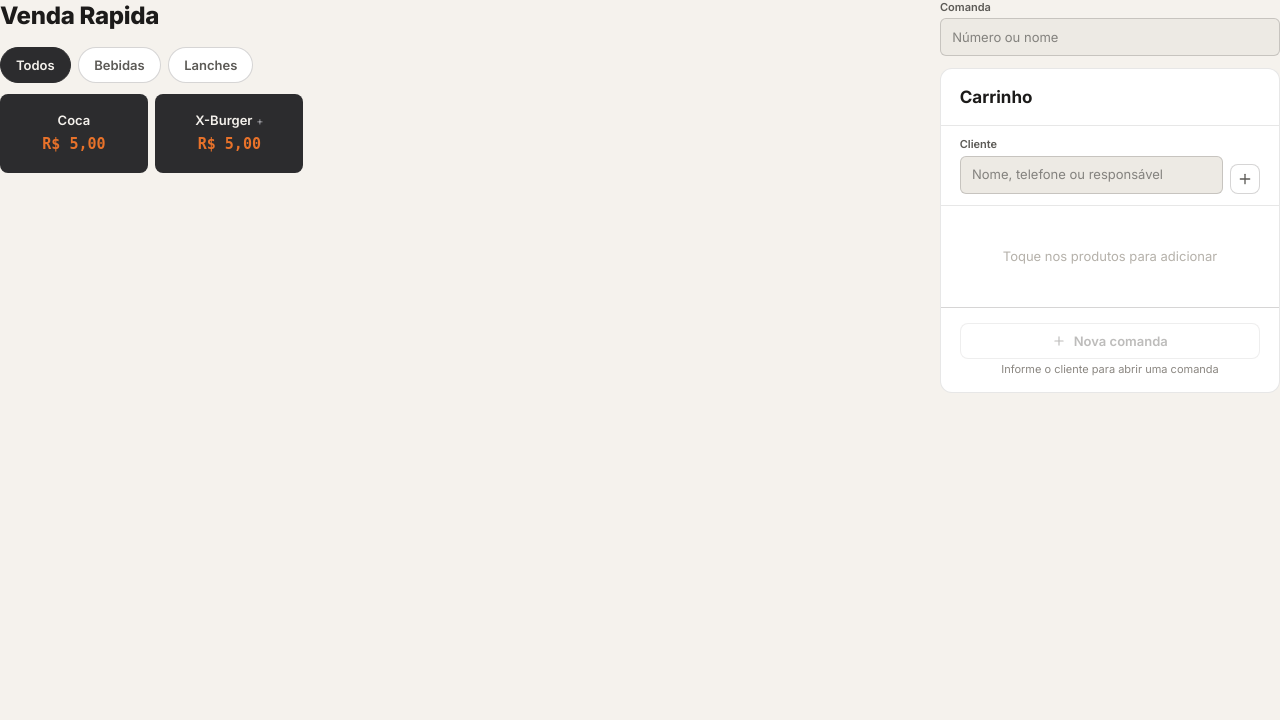
it: PdvPage › propõe a comanda aberta do cliente recém-cadastrado
Expected: the text "Coca" is shown, [58,111,90,129]
Click the button named "Cadastrar cliente".
click(1245, 179)  # box [1230,164,1260,194]
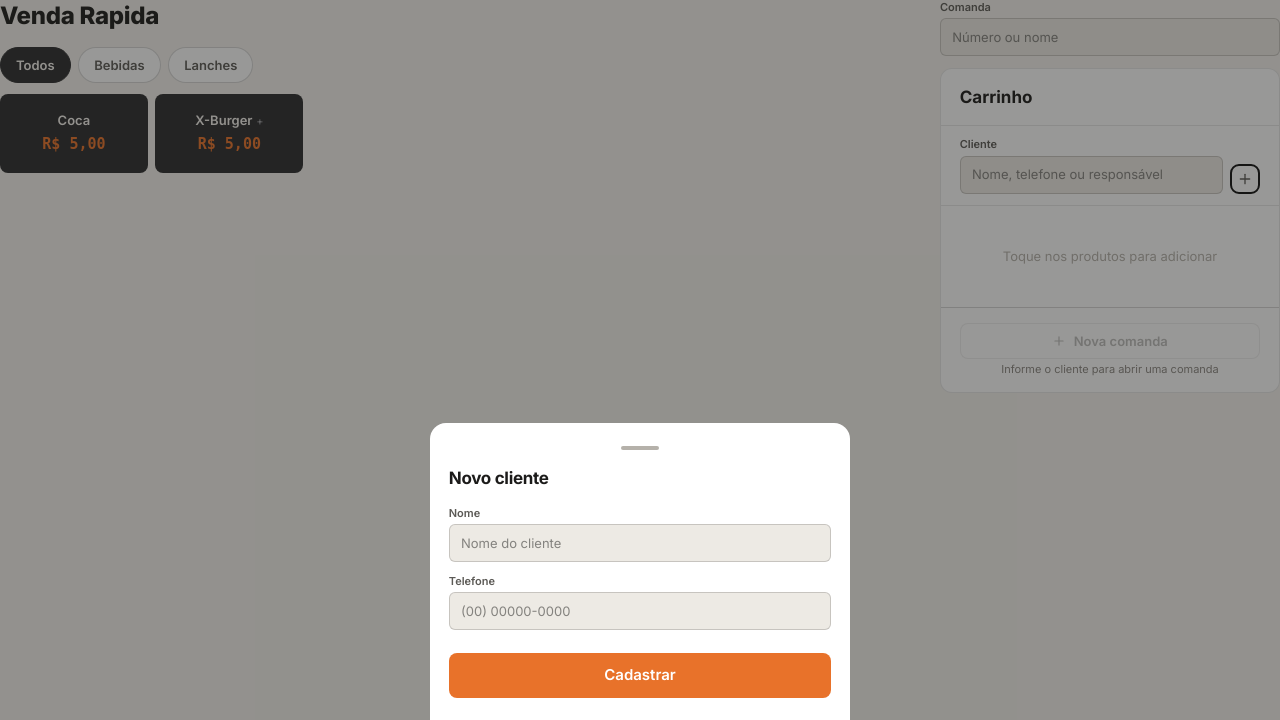
Type "Maju" into the field labelled "Nome".
click(640, 543); type("Maju")  # box [449,524,831,562]
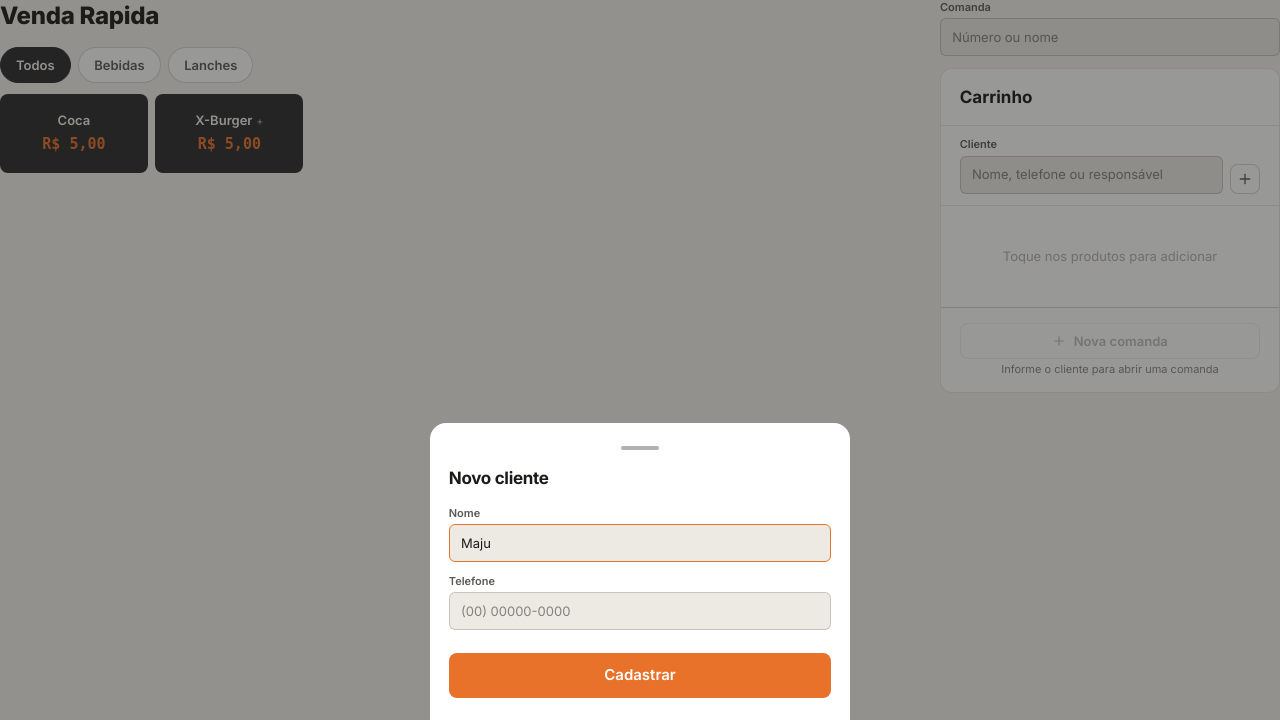
Click the button "Cadastrar".
click(640, 675)  # box [449,652,831,698]
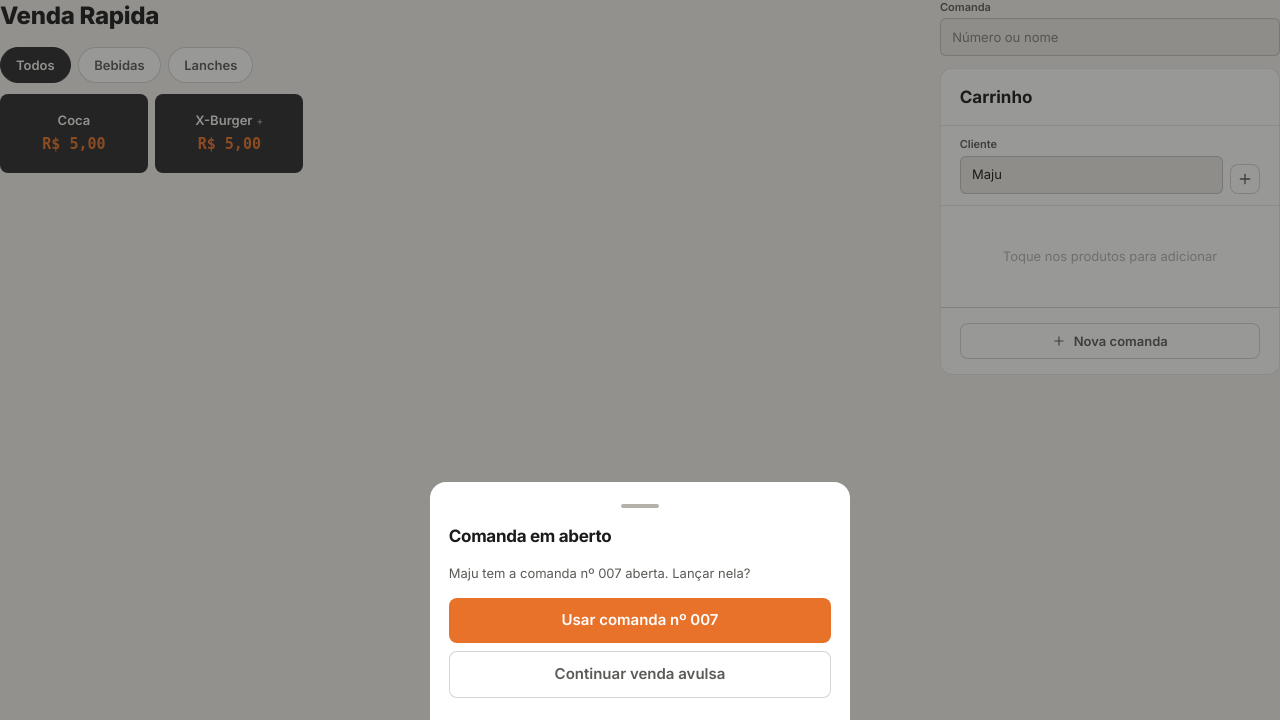
Now the dialog "Comanda em aberto" is shown, box [430,482,850,719]
